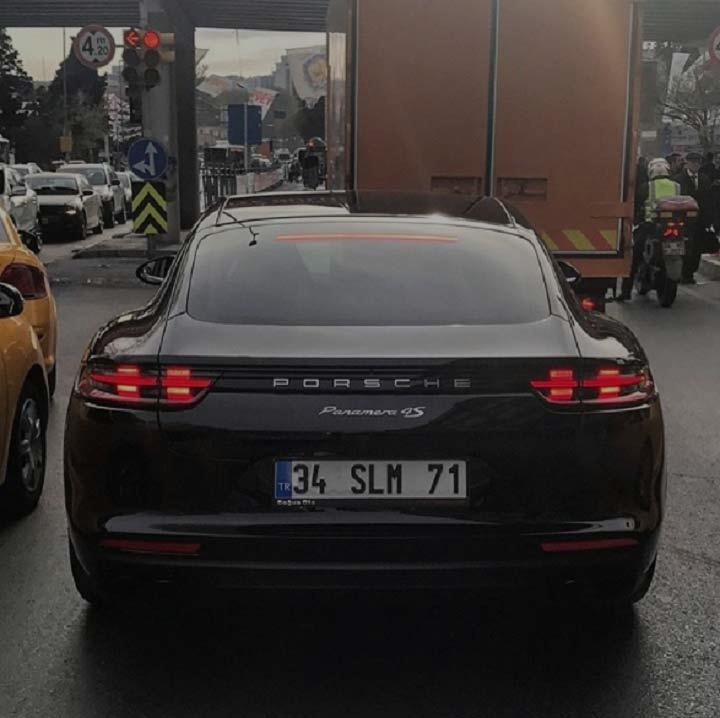plaka: (285, 452, 466, 498)
